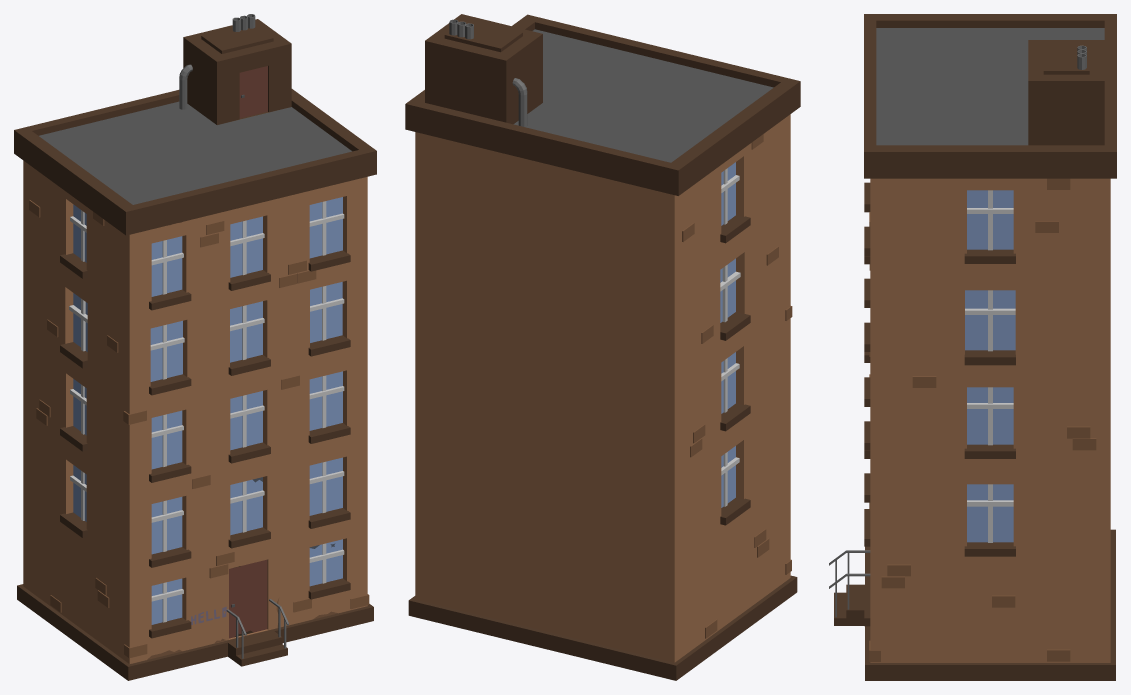
The model's file is House_04.glb.
The picture shows the model from 3 angles, left to right: view 1: azimuth 30°, elevation 25°; view 2: azimuth 150°, elevation 25°; view 3: azimuth 270°, elevation 25°; orthographic projection. The views are drawn at different scales.
Visible parts, largest first — view 1: House_04; view 2: House_04; view 3: House_04.
Part boxes in pixels (<box>): House_04: <box>14,14,376,680</box>; House_04: <box>405,14,800,680</box>; House_04: <box>829,14,1116,680</box>.
Bounding box in the file's own units: 7.14 × 14.74 × 6.29.
1 material, 1 textured.
